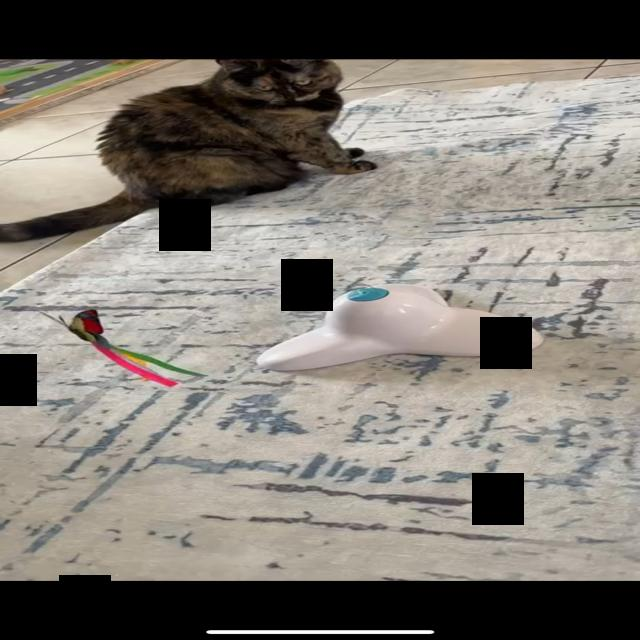authorized: (1, 58, 377, 243)
